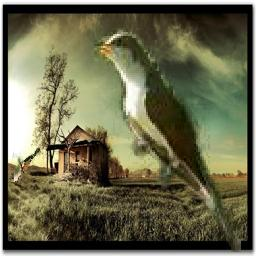Cuckoo: (95, 26, 242, 253), (12, 146, 41, 182)
